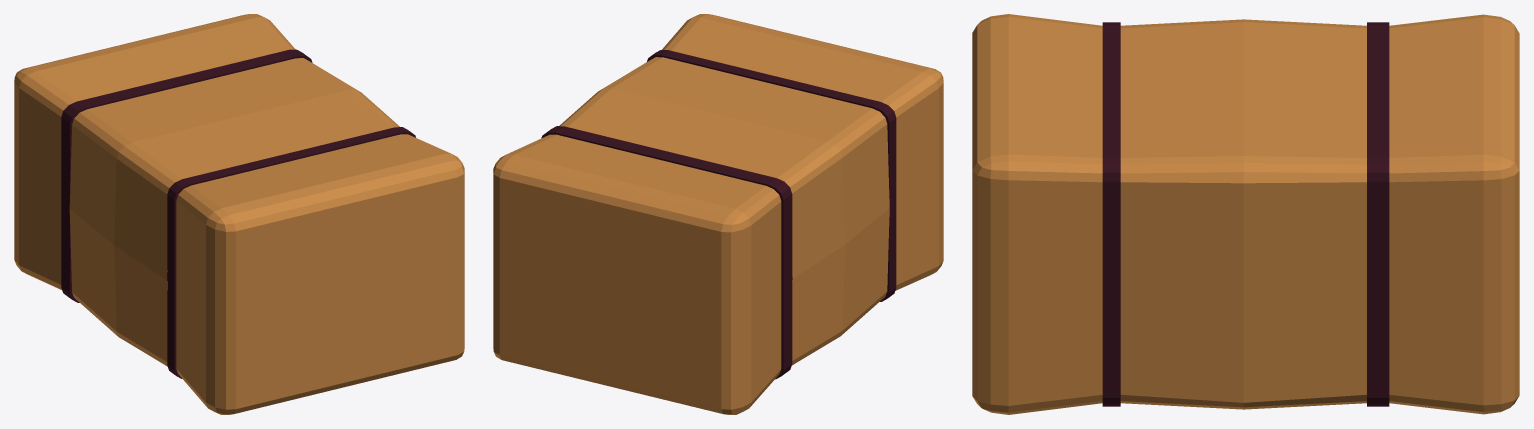
File: Saman.fbx
3 views of the same model, side by side, from view 1: azimuth 30°, elevation 25°; view 2: azimuth 150°, elevation 25°; view 3: azimuth 270°, elevation 25° (orthographic). The views are drawn at different scales.
Visible parts, largest first — view 1: Cube.002; view 2: Cube.002; view 3: Cube.002.
Boxes of the visible parts, box(x1,y1,x2,y2) form: Cube.002: box(14, 14, 464, 414); Cube.002: box(493, 14, 943, 414); Cube.002: box(972, 14, 1519, 414).
Bounding box in the file's own units: 136 × 104 × 201.
